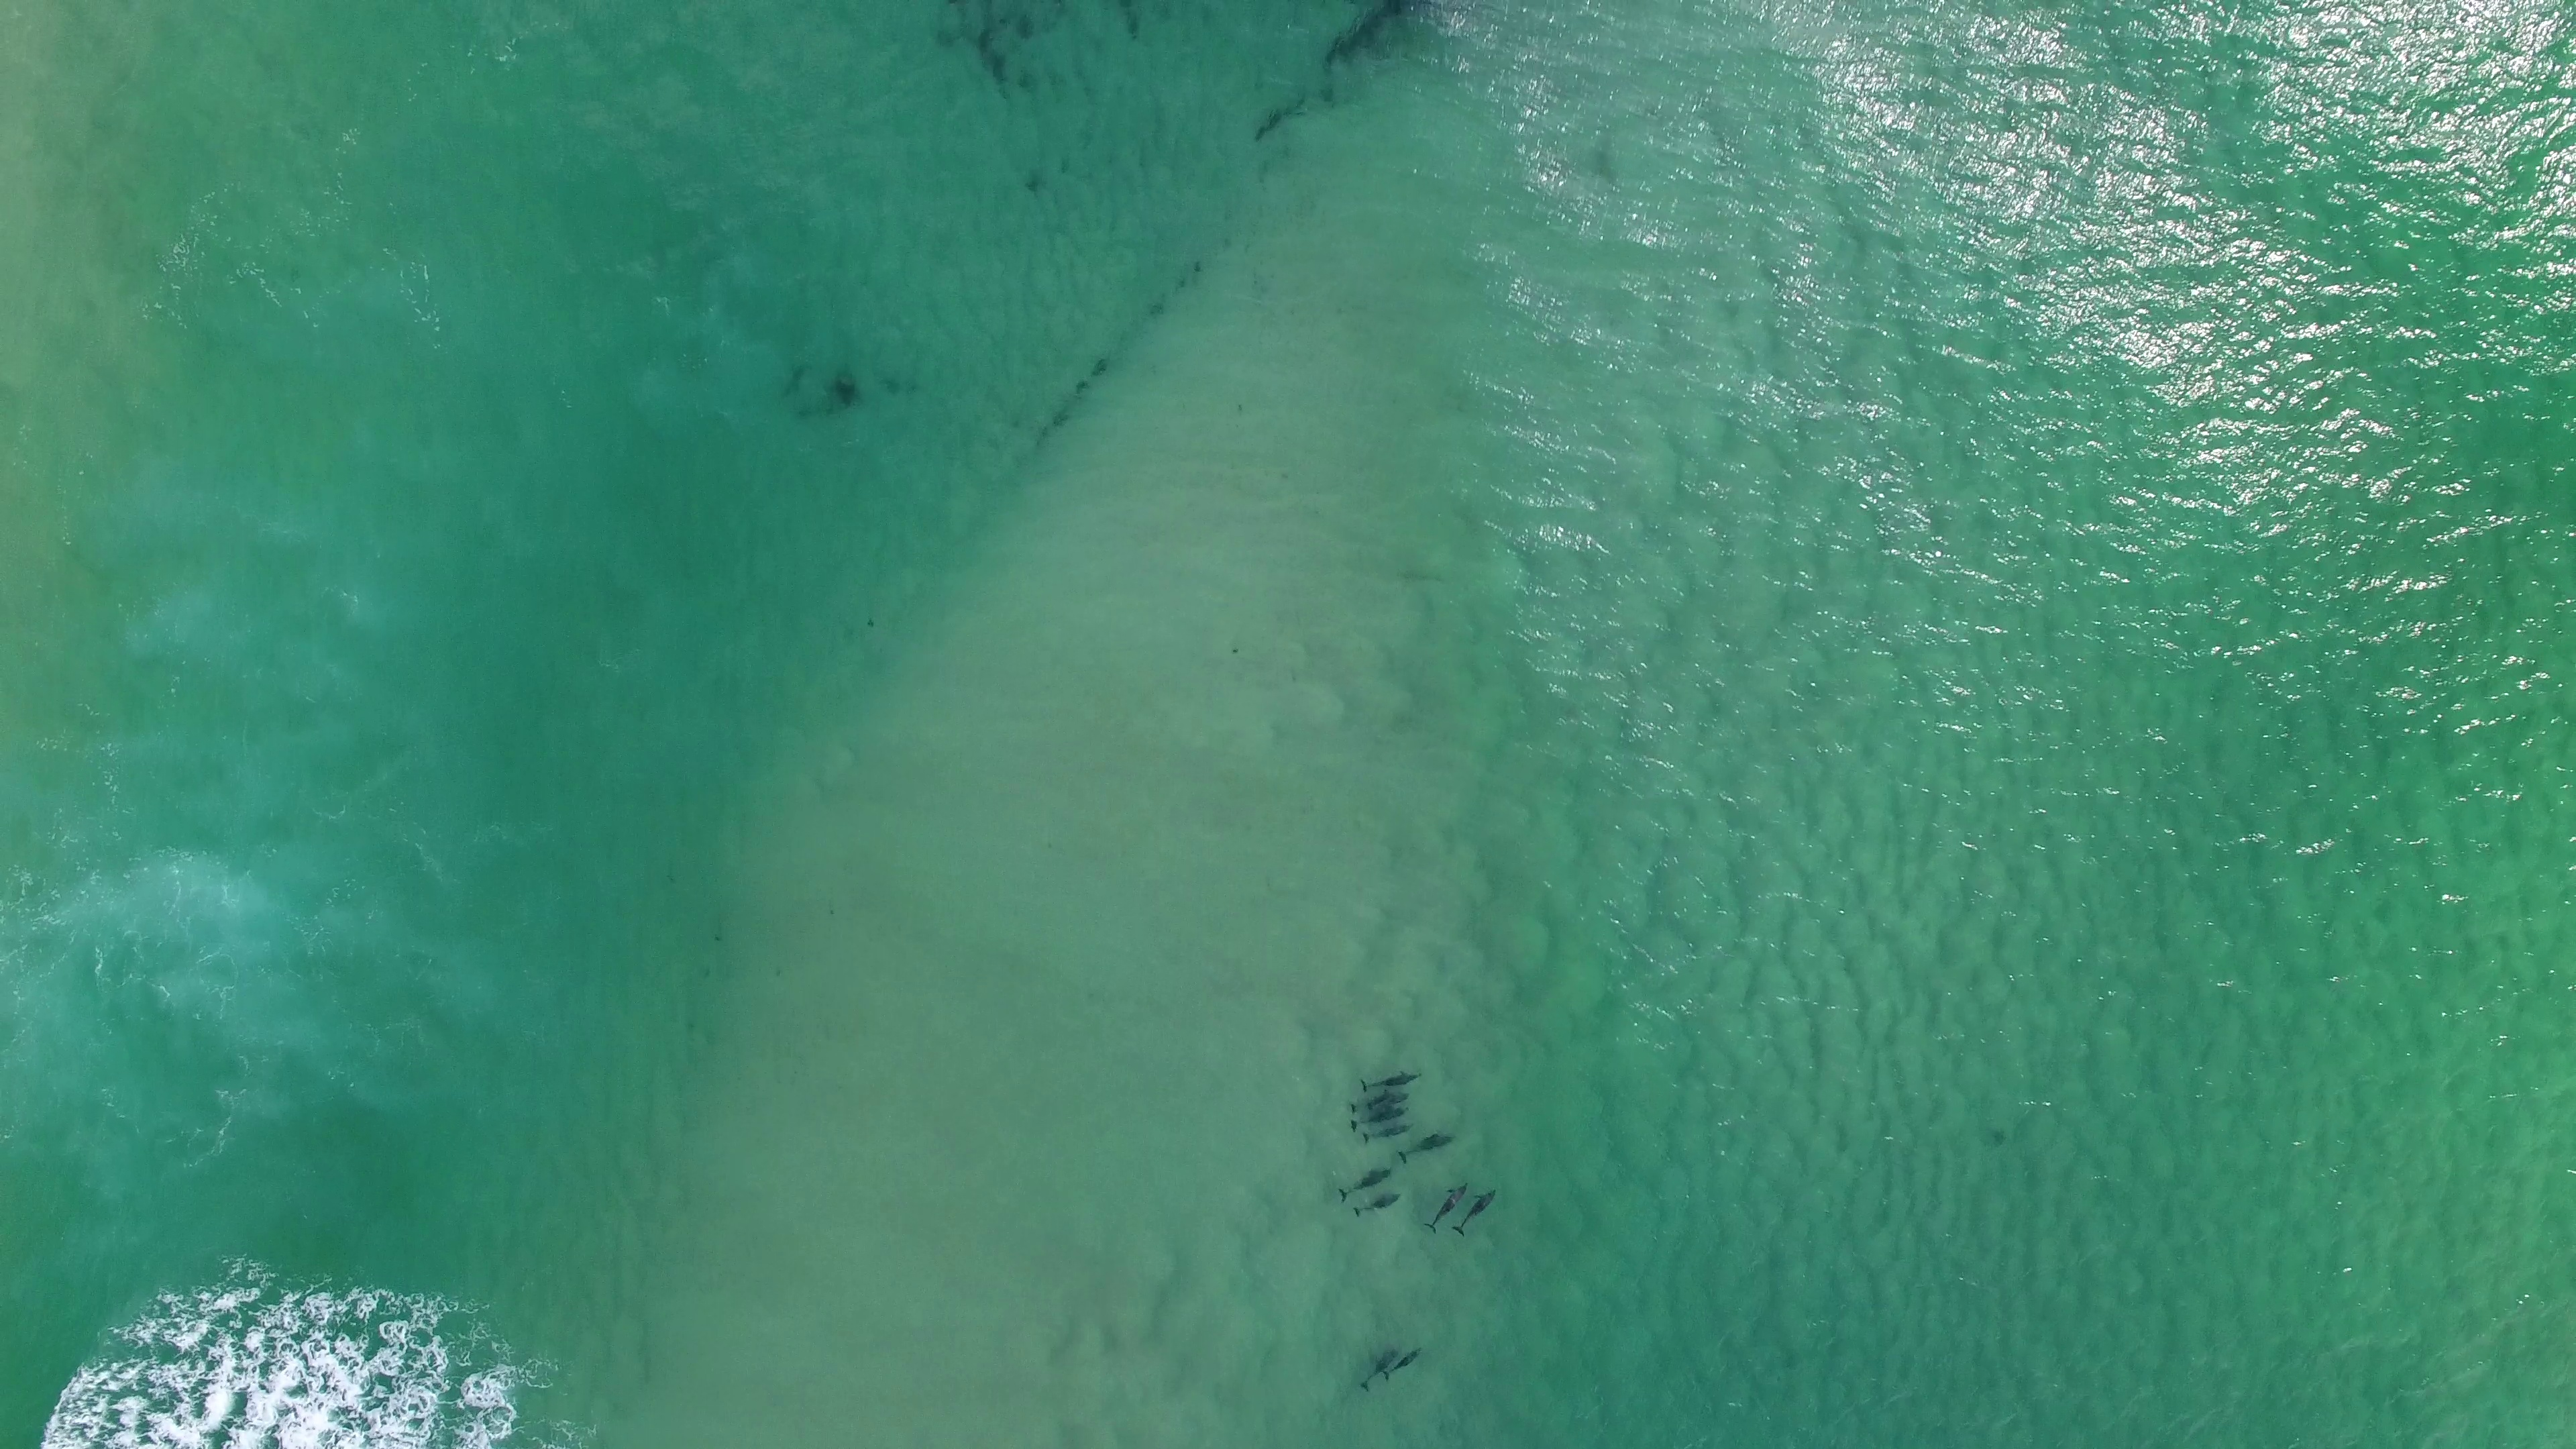dolphin: (1428, 1180, 1470, 1237), (1454, 1185, 1497, 1242), (1339, 1164, 1394, 1205), (1357, 1346, 1399, 1391), (1348, 1109, 1421, 1134), (1380, 1346, 1422, 1384), (1399, 1134, 1454, 1162), (1352, 1191, 1401, 1221), (1364, 1120, 1417, 1146), (1350, 1090, 1414, 1111), (1355, 1070, 1424, 1088)
